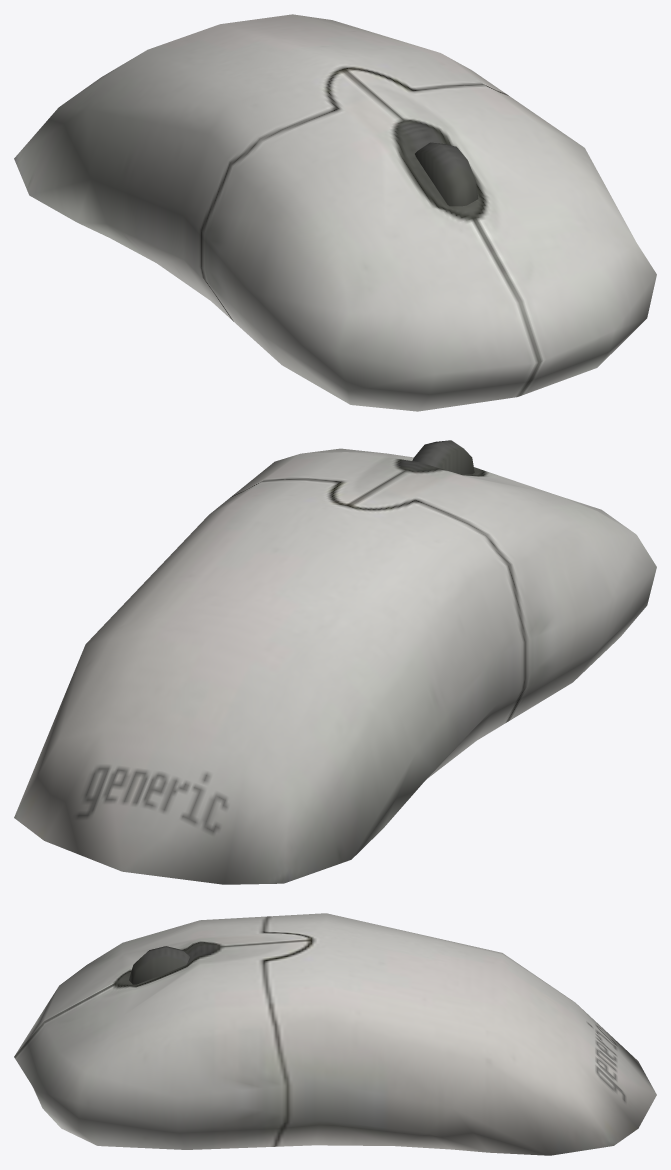
The model's file is Mouse.fbx.
The picture shows the model from 3 angles, top to bottom: view 1: azimuth 30°, elevation 25°; view 2: azimuth 150°, elevation 25°; view 3: azimuth 270°, elevation 25°; orthographic projection. The views are drawn at different scales.
Visible parts, largest first — view 1: Mouse, Mouse_Wheel; view 2: Mouse, Mouse_Wheel; view 3: Mouse, Mouse_Wheel.
Boxes of the visible parts, left/top/right/bottom form: Mouse: left=14, top=14, right=656, bottom=411; Mouse_Wheel: left=415, top=142, right=478, bottom=206; Mouse: left=14, top=448, right=656, bottom=884; Mouse_Wheel: left=412, top=440, right=474, bottom=474; Mouse: left=14, top=913, right=656, bottom=1155; Mouse_Wheel: left=129, top=946, right=189, bottom=984.
Size of the model in its own units: 1.14 by 0.6257 by 2.34.
